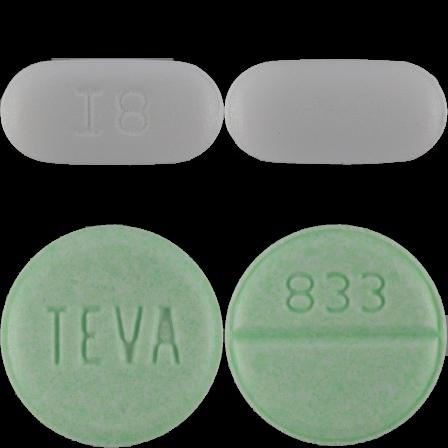51655-851: (0, 0, 224, 224)
